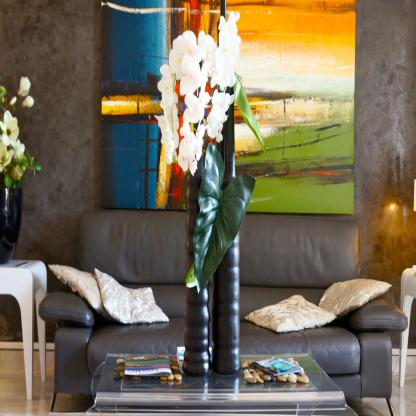vase: (210, 84, 241, 380), (182, 142, 209, 378), (0, 180, 24, 266)
